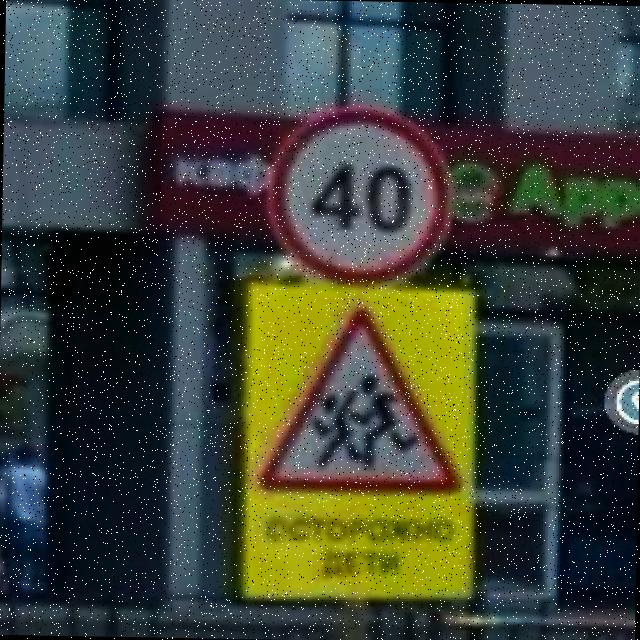Dzieci: (256, 302, 467, 496)
Ograniczenie predkosci do 40: (267, 106, 453, 288)
